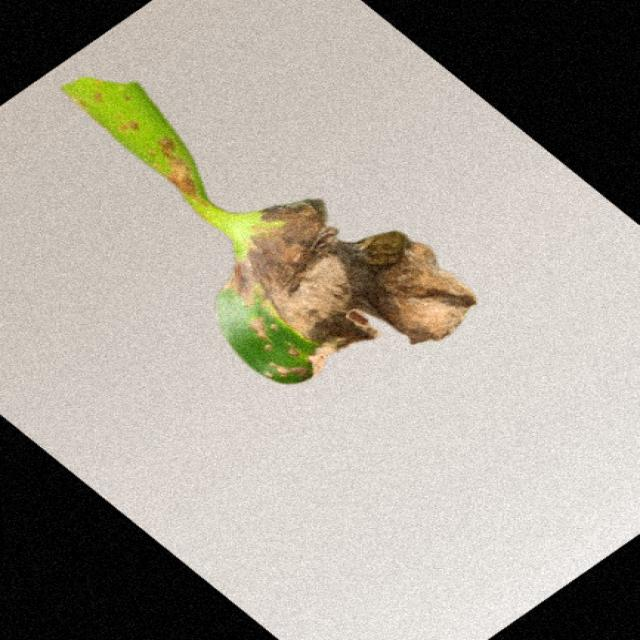daun berpenyakit bercak: (63, 79, 476, 383)
